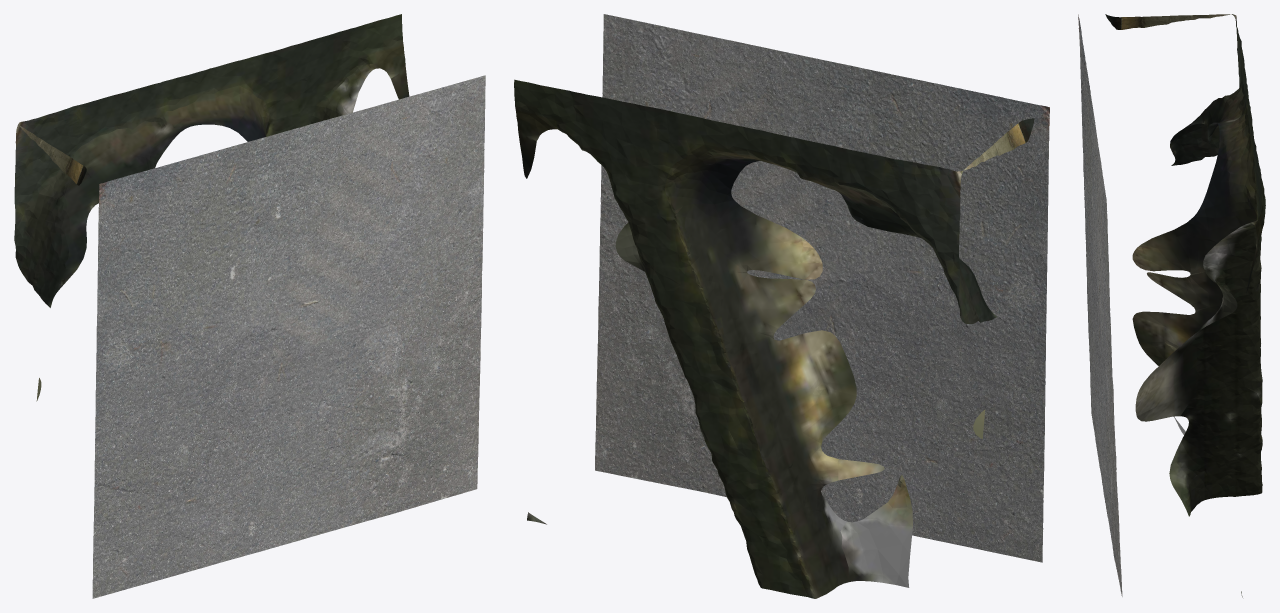
File: Tile_+008_+014.obj
3 renders of one model, left to right at view 1: azimuth 30°, elevation 25°; view 2: azimuth 150°, elevation 25°; view 3: azimuth 270°, elevation 25°, orthographic. The views are drawn at different scales.
Bounding box in the file's own units: 3.03 × 3.03 × 1.29.
Materials: 1 (1 with a texture image).
